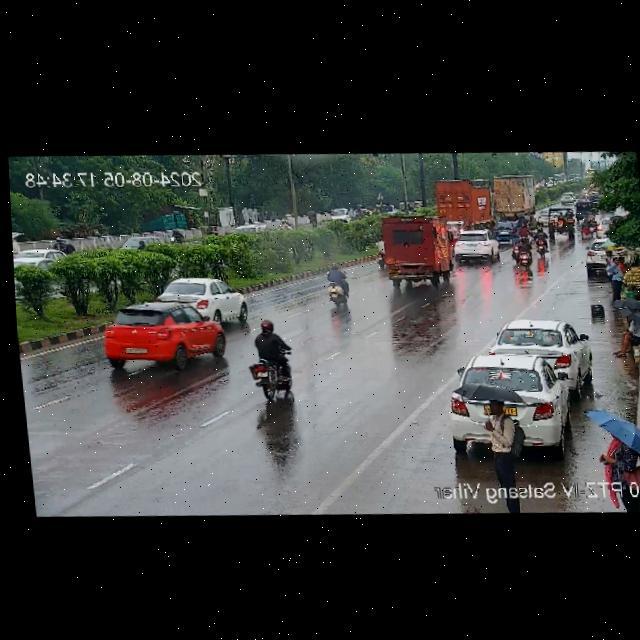bus: (549, 171, 568, 185)
car: (446, 351, 589, 463), (90, 298, 231, 377), (370, 210, 457, 289), (487, 315, 589, 380), (154, 273, 248, 321), (111, 230, 180, 256), (449, 232, 500, 264), (581, 236, 612, 278), (549, 210, 577, 248), (224, 220, 273, 239), (488, 220, 520, 242), (572, 200, 595, 222), (328, 207, 354, 226), (556, 190, 579, 204)
motorcycle: (246, 315, 302, 399), (318, 264, 357, 307), (510, 236, 537, 268), (531, 229, 552, 256)
person: (476, 395, 528, 481), (597, 419, 640, 515), (610, 310, 640, 357), (605, 256, 629, 300)
truck: (430, 173, 537, 233)
